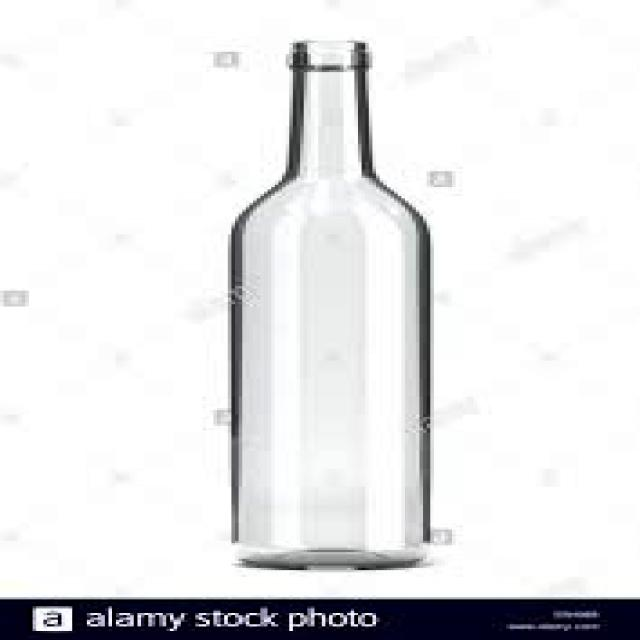Glass: (216, 32, 448, 570)
